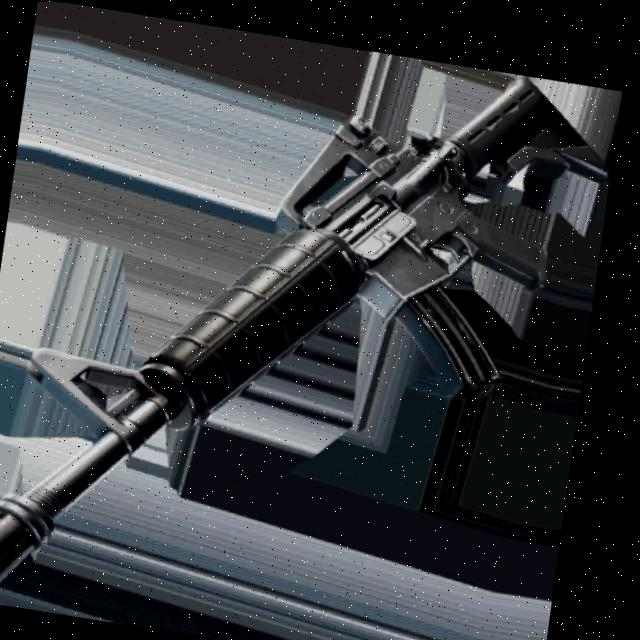firearm: (0, 0, 626, 640)
